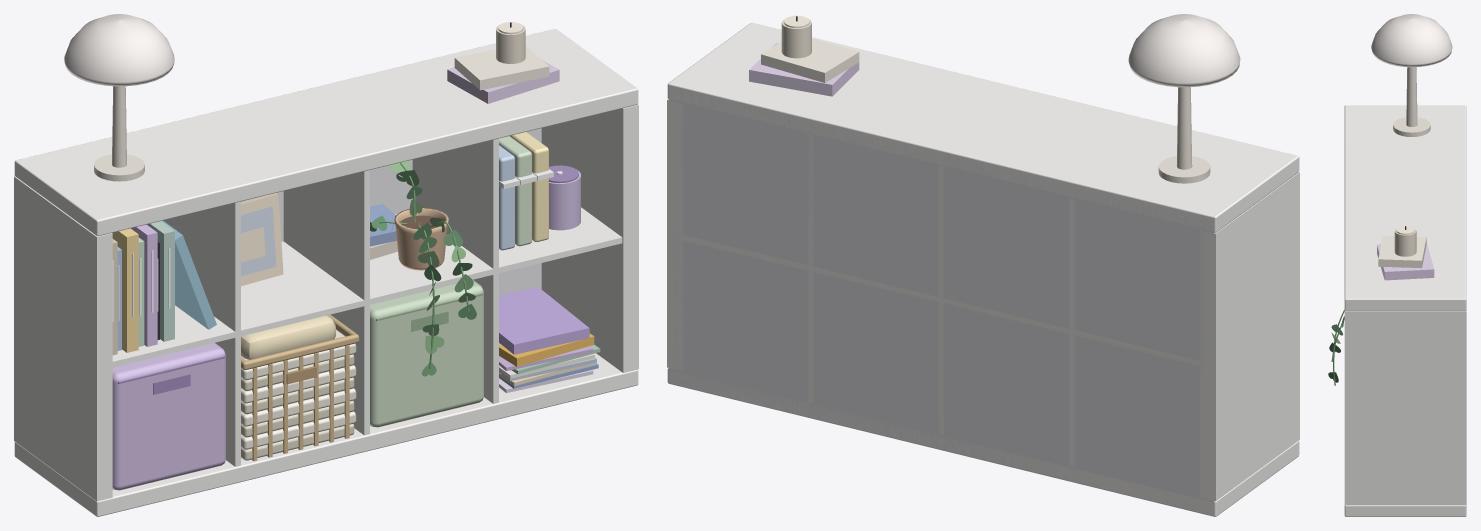
File: bibliotheque.glb
3 renders of one model, left to right at view 1: azimuth 30°, elevation 25°; view 2: azimuth 150°, elevation 25°; view 3: azimuth 270°, elevation 25°, orthographic. The views are drawn at different scales.
Parts seen in each view (by area): view 1: bibliotheque; view 2: bibliotheque; view 3: bibliotheque.
Part boxes in pixels (x1,y1,x2,y2): bibliotheque: (14,14,638,516); bibliotheque: (667,14,1299,516); bibliotheque: (1328,14,1466,516).
Bounding box in the file's own units: 1.47 × 1.16 × 0.4419.
